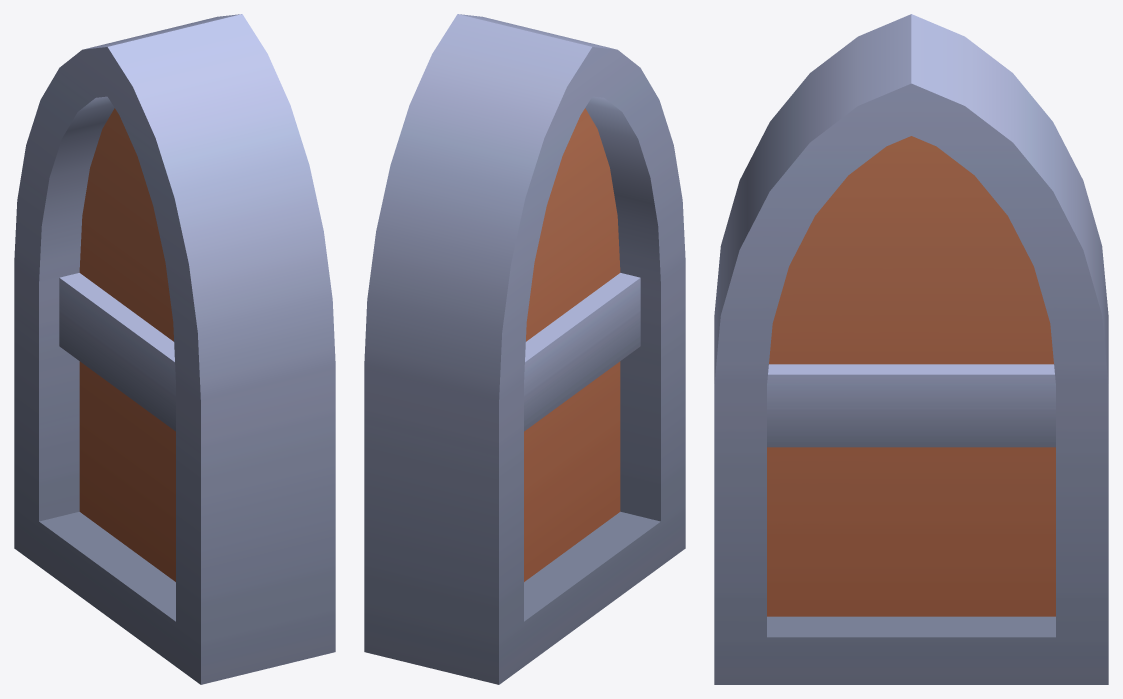
Rendered from kenney-castle-door.glb.
The picture shows the model from 3 angles, left to right: view 1: azimuth 30°, elevation 25°; view 2: azimuth 150°, elevation 25°; view 3: azimuth 270°, elevation 25°; orthographic projection. The views are drawn at different scales.
Parts seen in each view (by area): view 1: door; view 2: door; view 3: door.
Boxes of the visible parts, box(x1,y1,x2,y2) form: door: box(14, 14, 335, 684); door: box(364, 14, 685, 684); door: box(714, 14, 1108, 684).
Size of the model in its own units: 0.15 by 0.6053 by 0.3594.
Materials: 1 (1 with a texture image).
